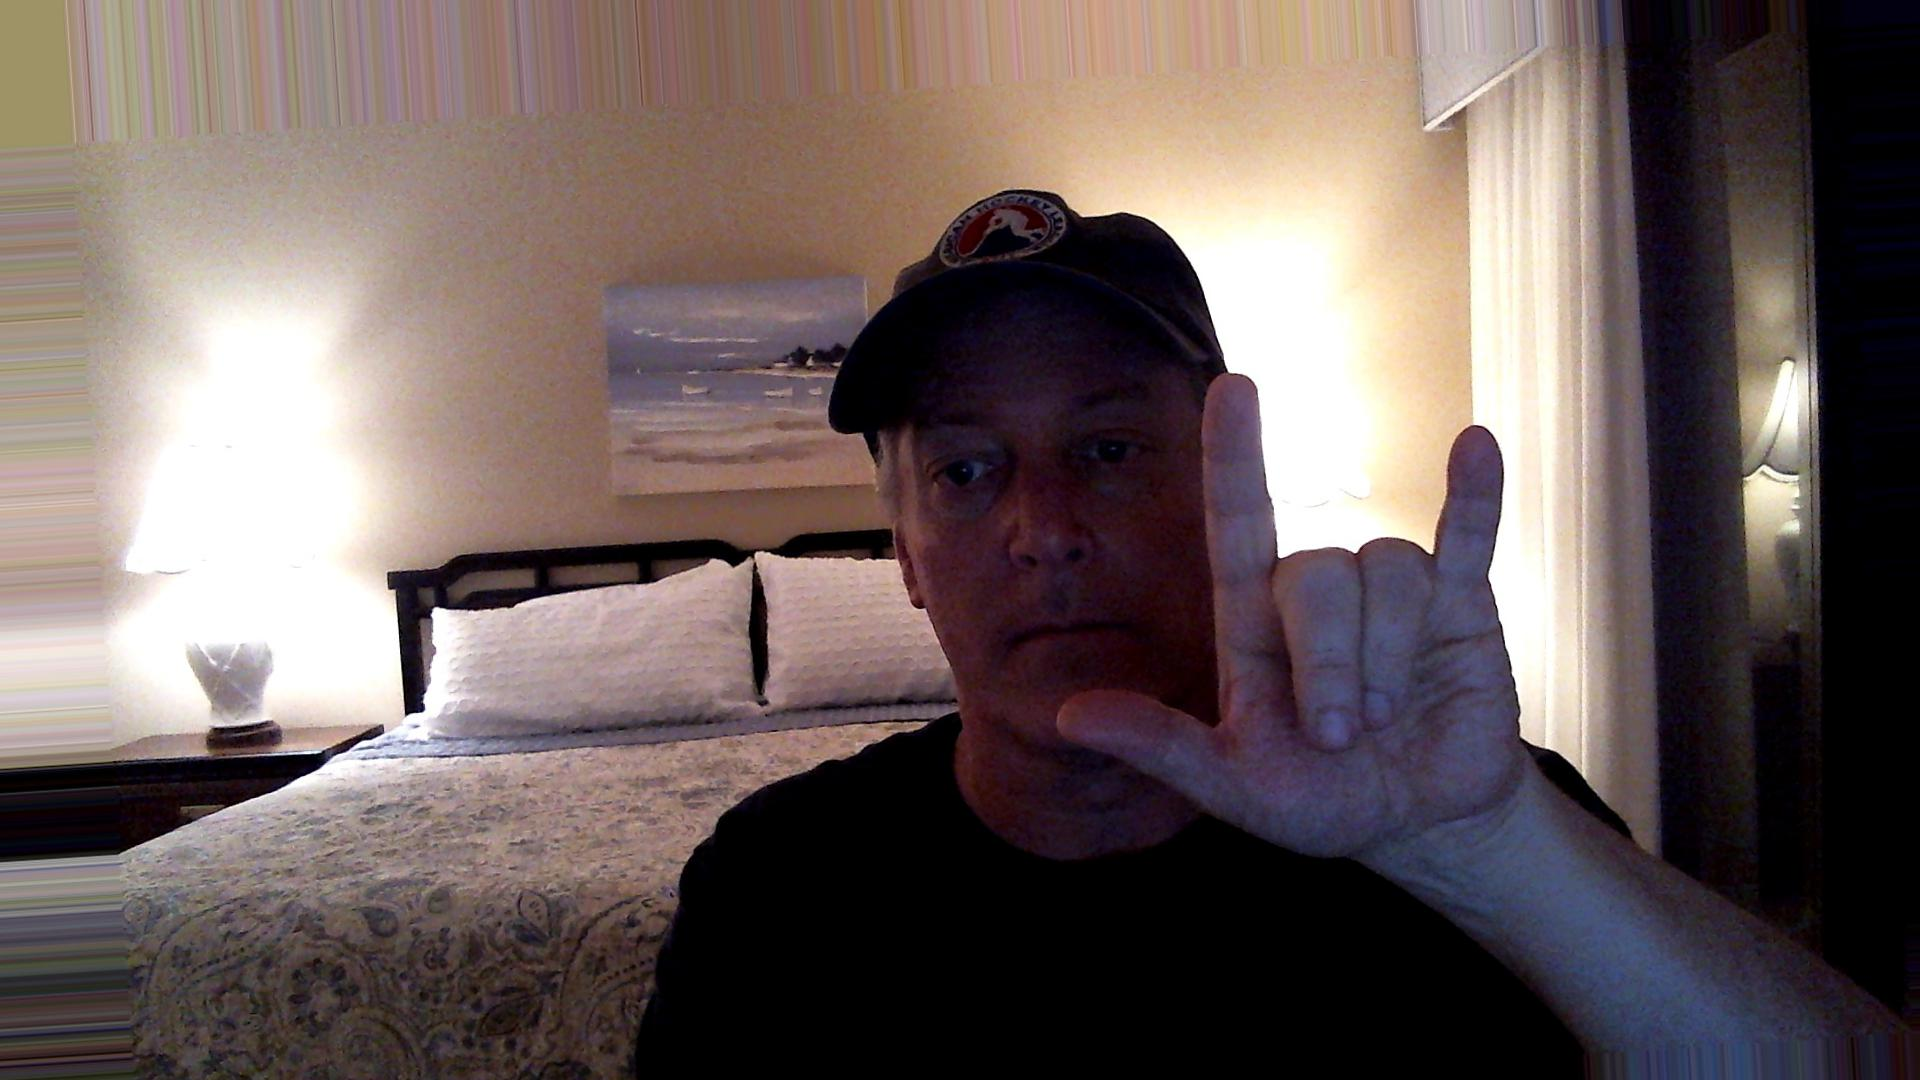I Love You: (1025, 352, 1578, 856)
